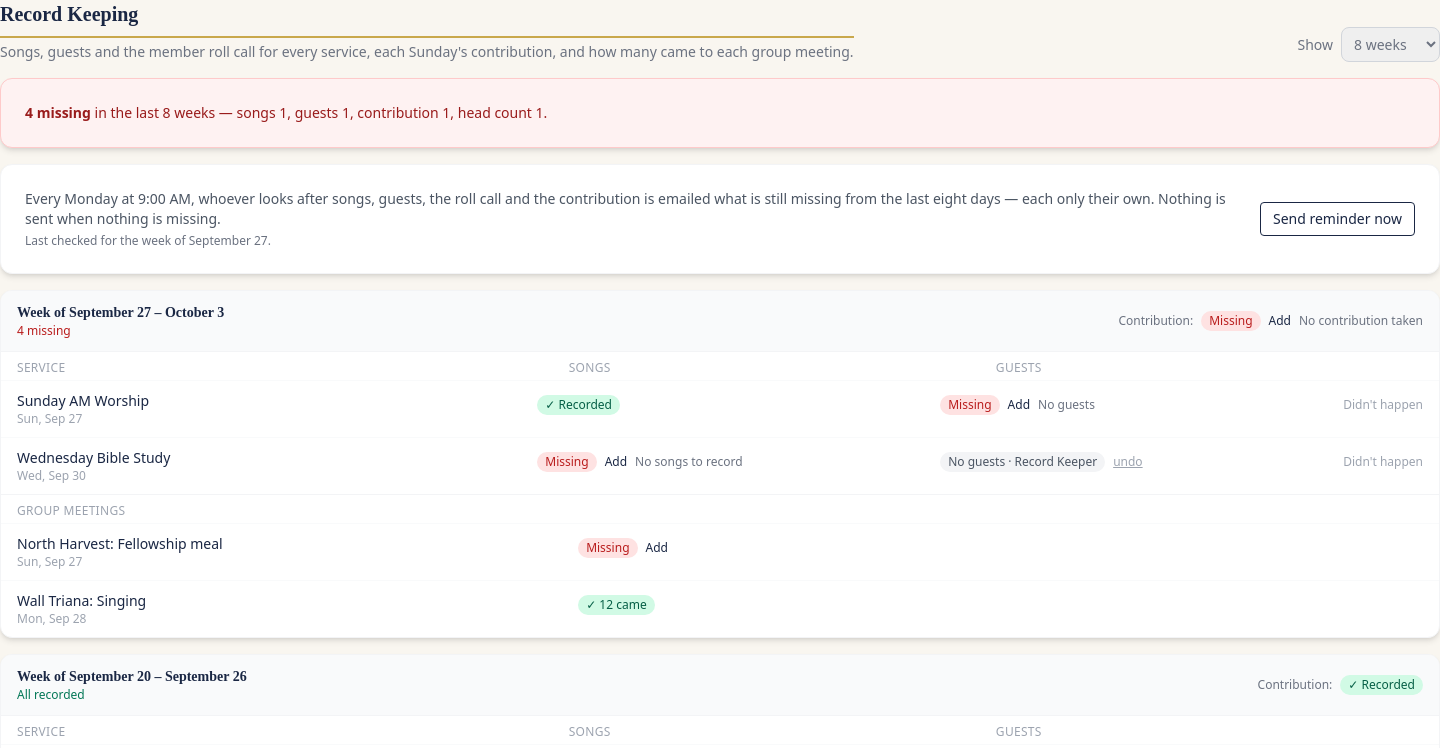
RecordKeepingView › says so when there was nothing to remind anybody about
This screenshot has width=1440, height=748.
Click the button "Send reminder now" at (1338, 219), box x1=1260 y1=202 x2=1415 y2=236
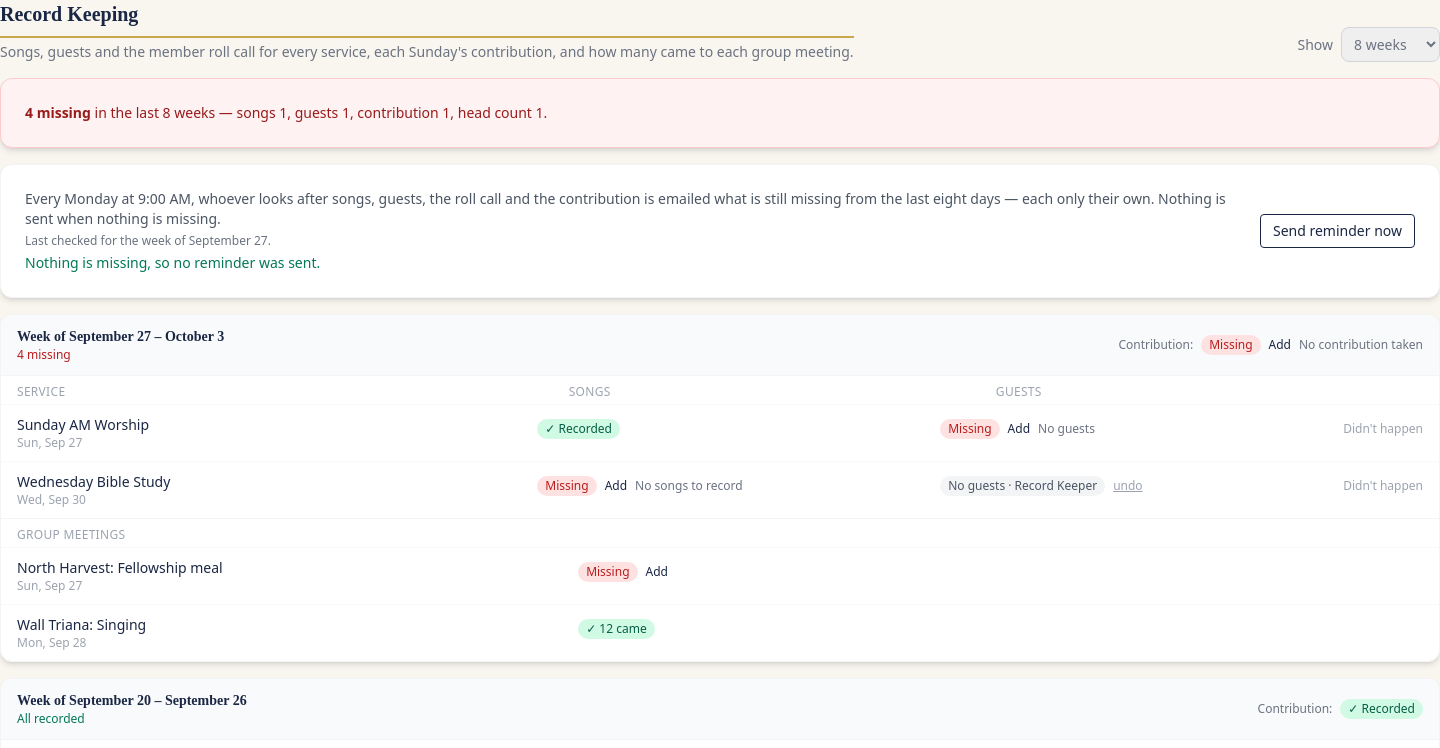
Check: the text "Nothing is missing, so no reminder was sent." is shown, box x1=25 y1=253 x2=320 y2=272
